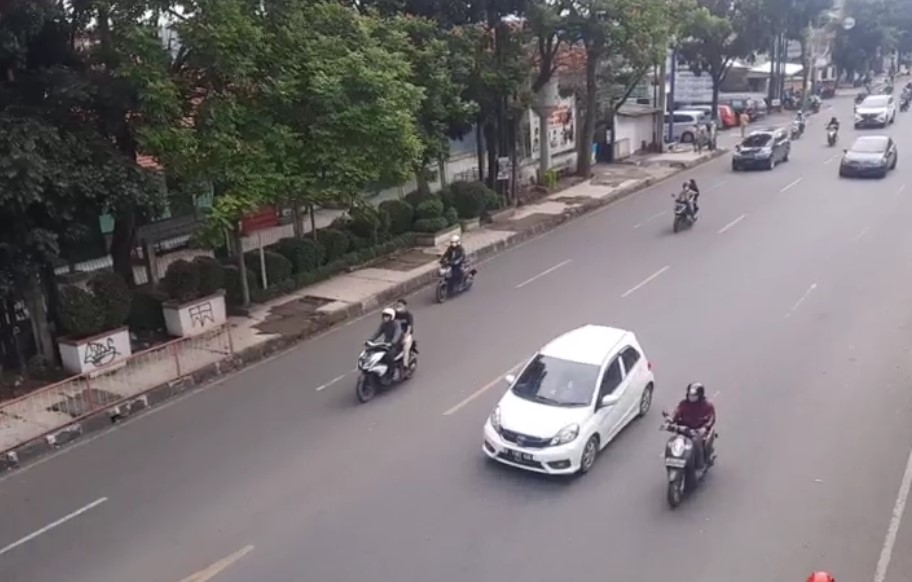motor: (653, 385, 732, 509), (347, 299, 428, 400), (428, 237, 483, 303), (664, 179, 704, 228)
